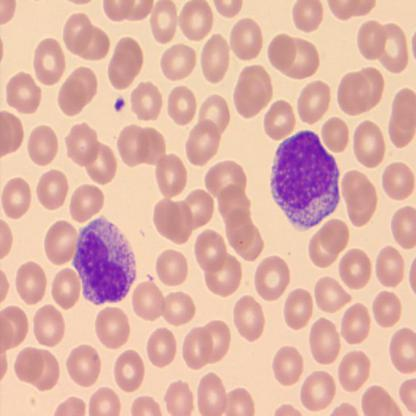Metamyelocyte: (268, 124, 342, 232), (70, 213, 141, 308)
